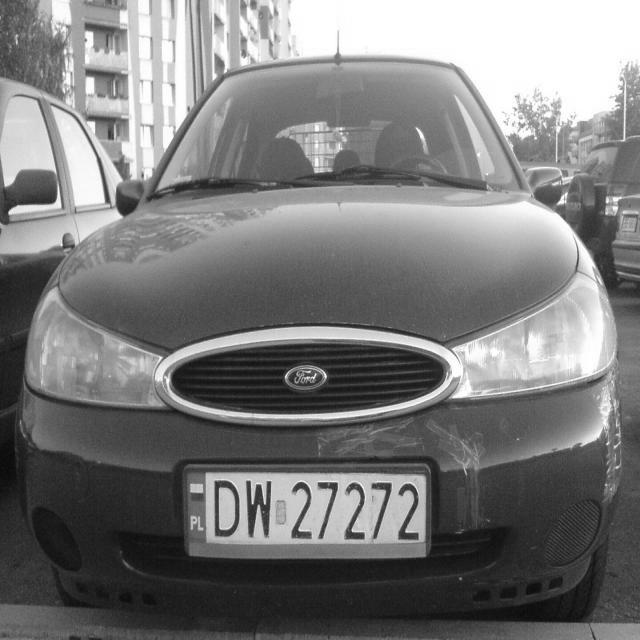License_Plate: (184, 472, 425, 558)
